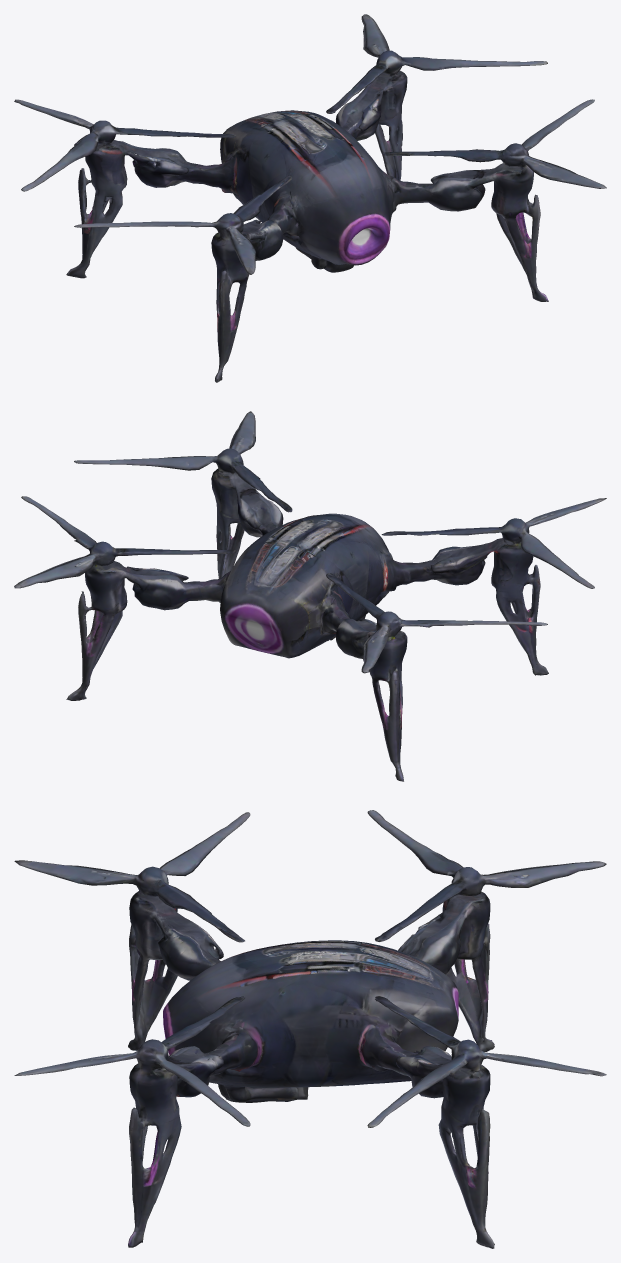
The model's file is robot1.glb.
3 views of the same model, one above another, from view 1: azimuth 30°, elevation 25°; view 2: azimuth 150°, elevation 25°; view 3: azimuth 270°, elevation 25° (orthographic). The views are drawn at different scales.
Size of the model in its own units: 2.03 by 0.5882 by 1.6.
1 material, 1 textured.
